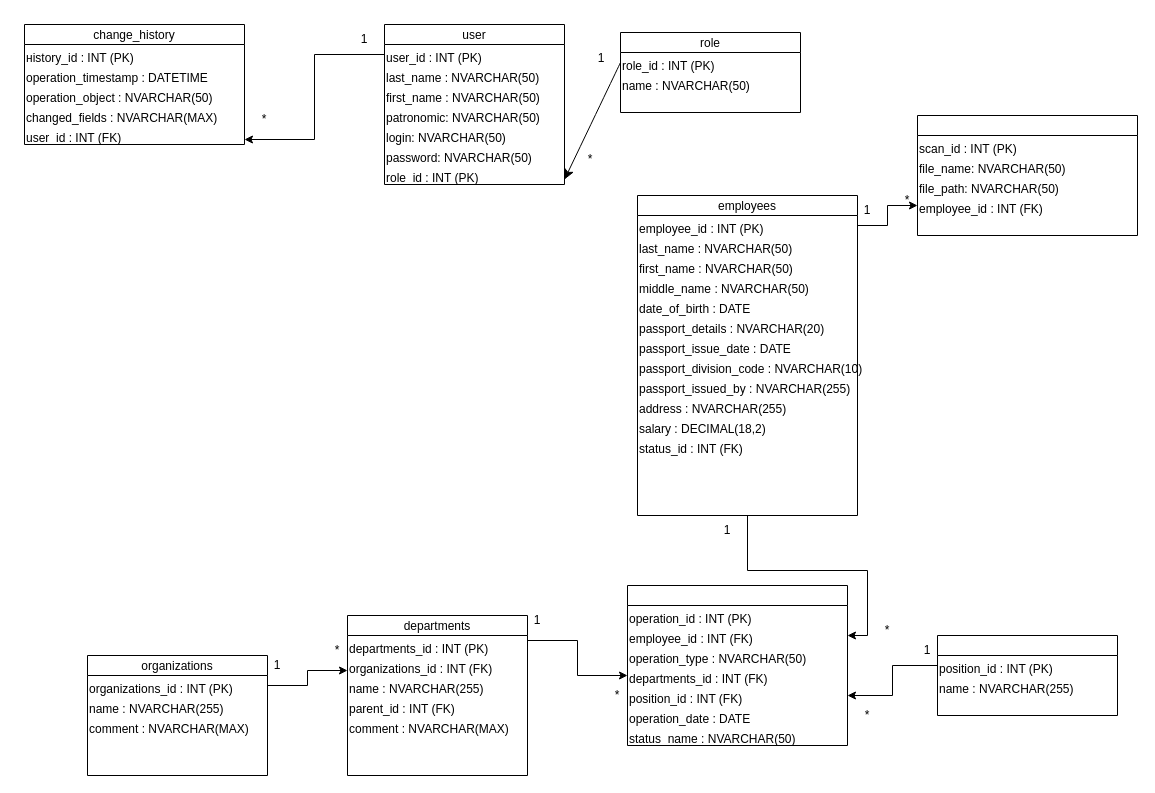
Image size: 1155x793. Some labels were removed from this diagram. The shapes that lost their labels are listed below. From the top down, each one's box as (x1, y1, x2, y2) in pixels, then its label:
(916, 114, 1138, 236): files
(626, 584, 848, 746): hr_operations
(936, 634, 1118, 716): positions
